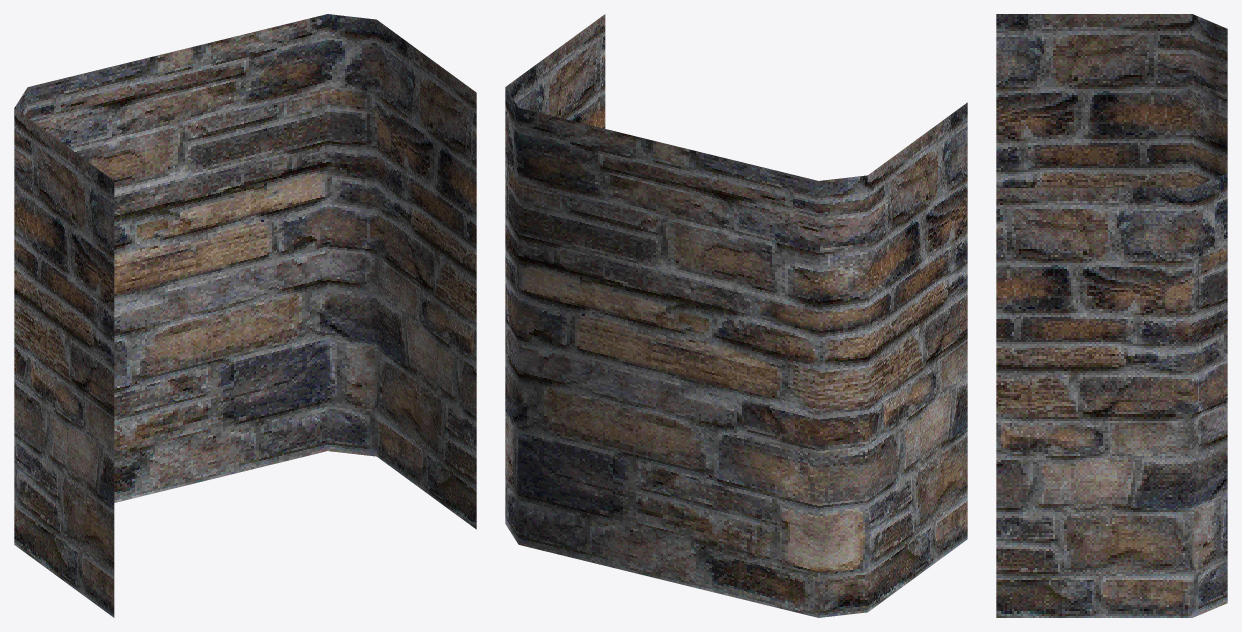
The model's file is chimney-ext-bot.glb.
3 renders of one model, left to right at view 1: azimuth 30°, elevation 25°; view 2: azimuth 150°, elevation 25°; view 3: azimuth 270°, elevation 25°, orthographic.
Parts seen in each view (by area): view 1: chimney-ext-bot.001; view 2: chimney-ext-bot.001; view 3: chimney-ext-bot.001.
Part boxes in pixels (x1,y1,x2,y2): chimney-ext-bot.001: [14, 14, 476, 617]; chimney-ext-bot.001: [505, 14, 967, 617]; chimney-ext-bot.001: [996, 14, 1227, 617].
Bounding box in the file's own units: 1.74 × 2 × 0.9763.
1 material, 1 textured.
